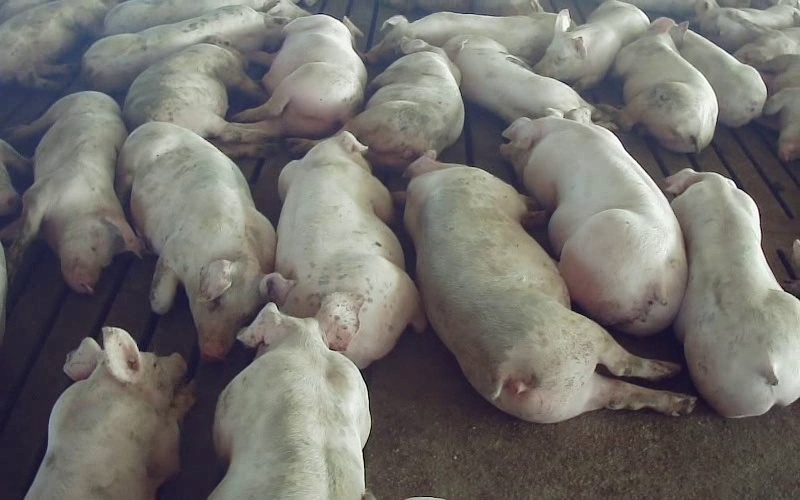pig: (404, 155, 693, 422), (116, 122, 292, 359), (500, 115, 686, 334), (275, 131, 424, 363), (209, 292, 370, 499), (667, 170, 799, 416), (25, 328, 193, 499), (0, 91, 141, 293), (123, 39, 278, 156), (82, 5, 287, 92), (235, 15, 366, 137), (345, 37, 464, 171), (601, 18, 717, 152), (534, 0, 649, 90), (365, 12, 556, 63)
